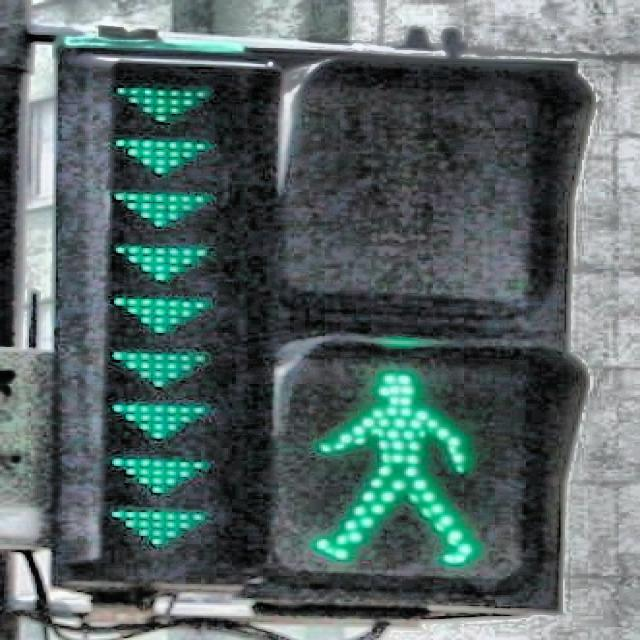green_light: (312, 366, 482, 570)
